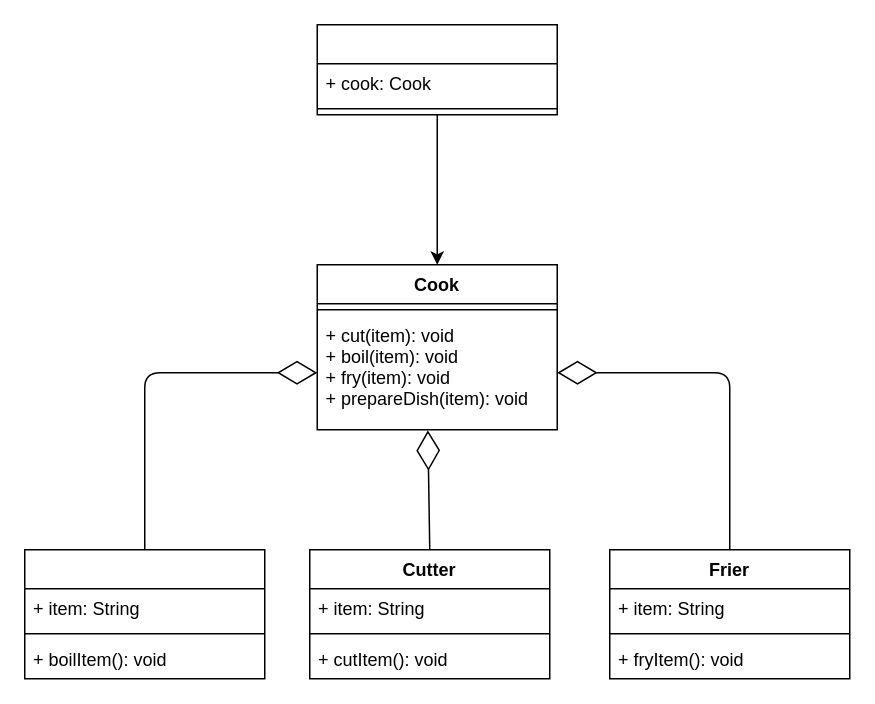
Some shapes in this 875 by 704 pixel diagram are drawn without their labels. The box of each missing label's shape, as (x1, y1, x2, y2) in pixels:
Boiler: (23, 548, 265, 679)
Main: (316, 23, 557, 115)
